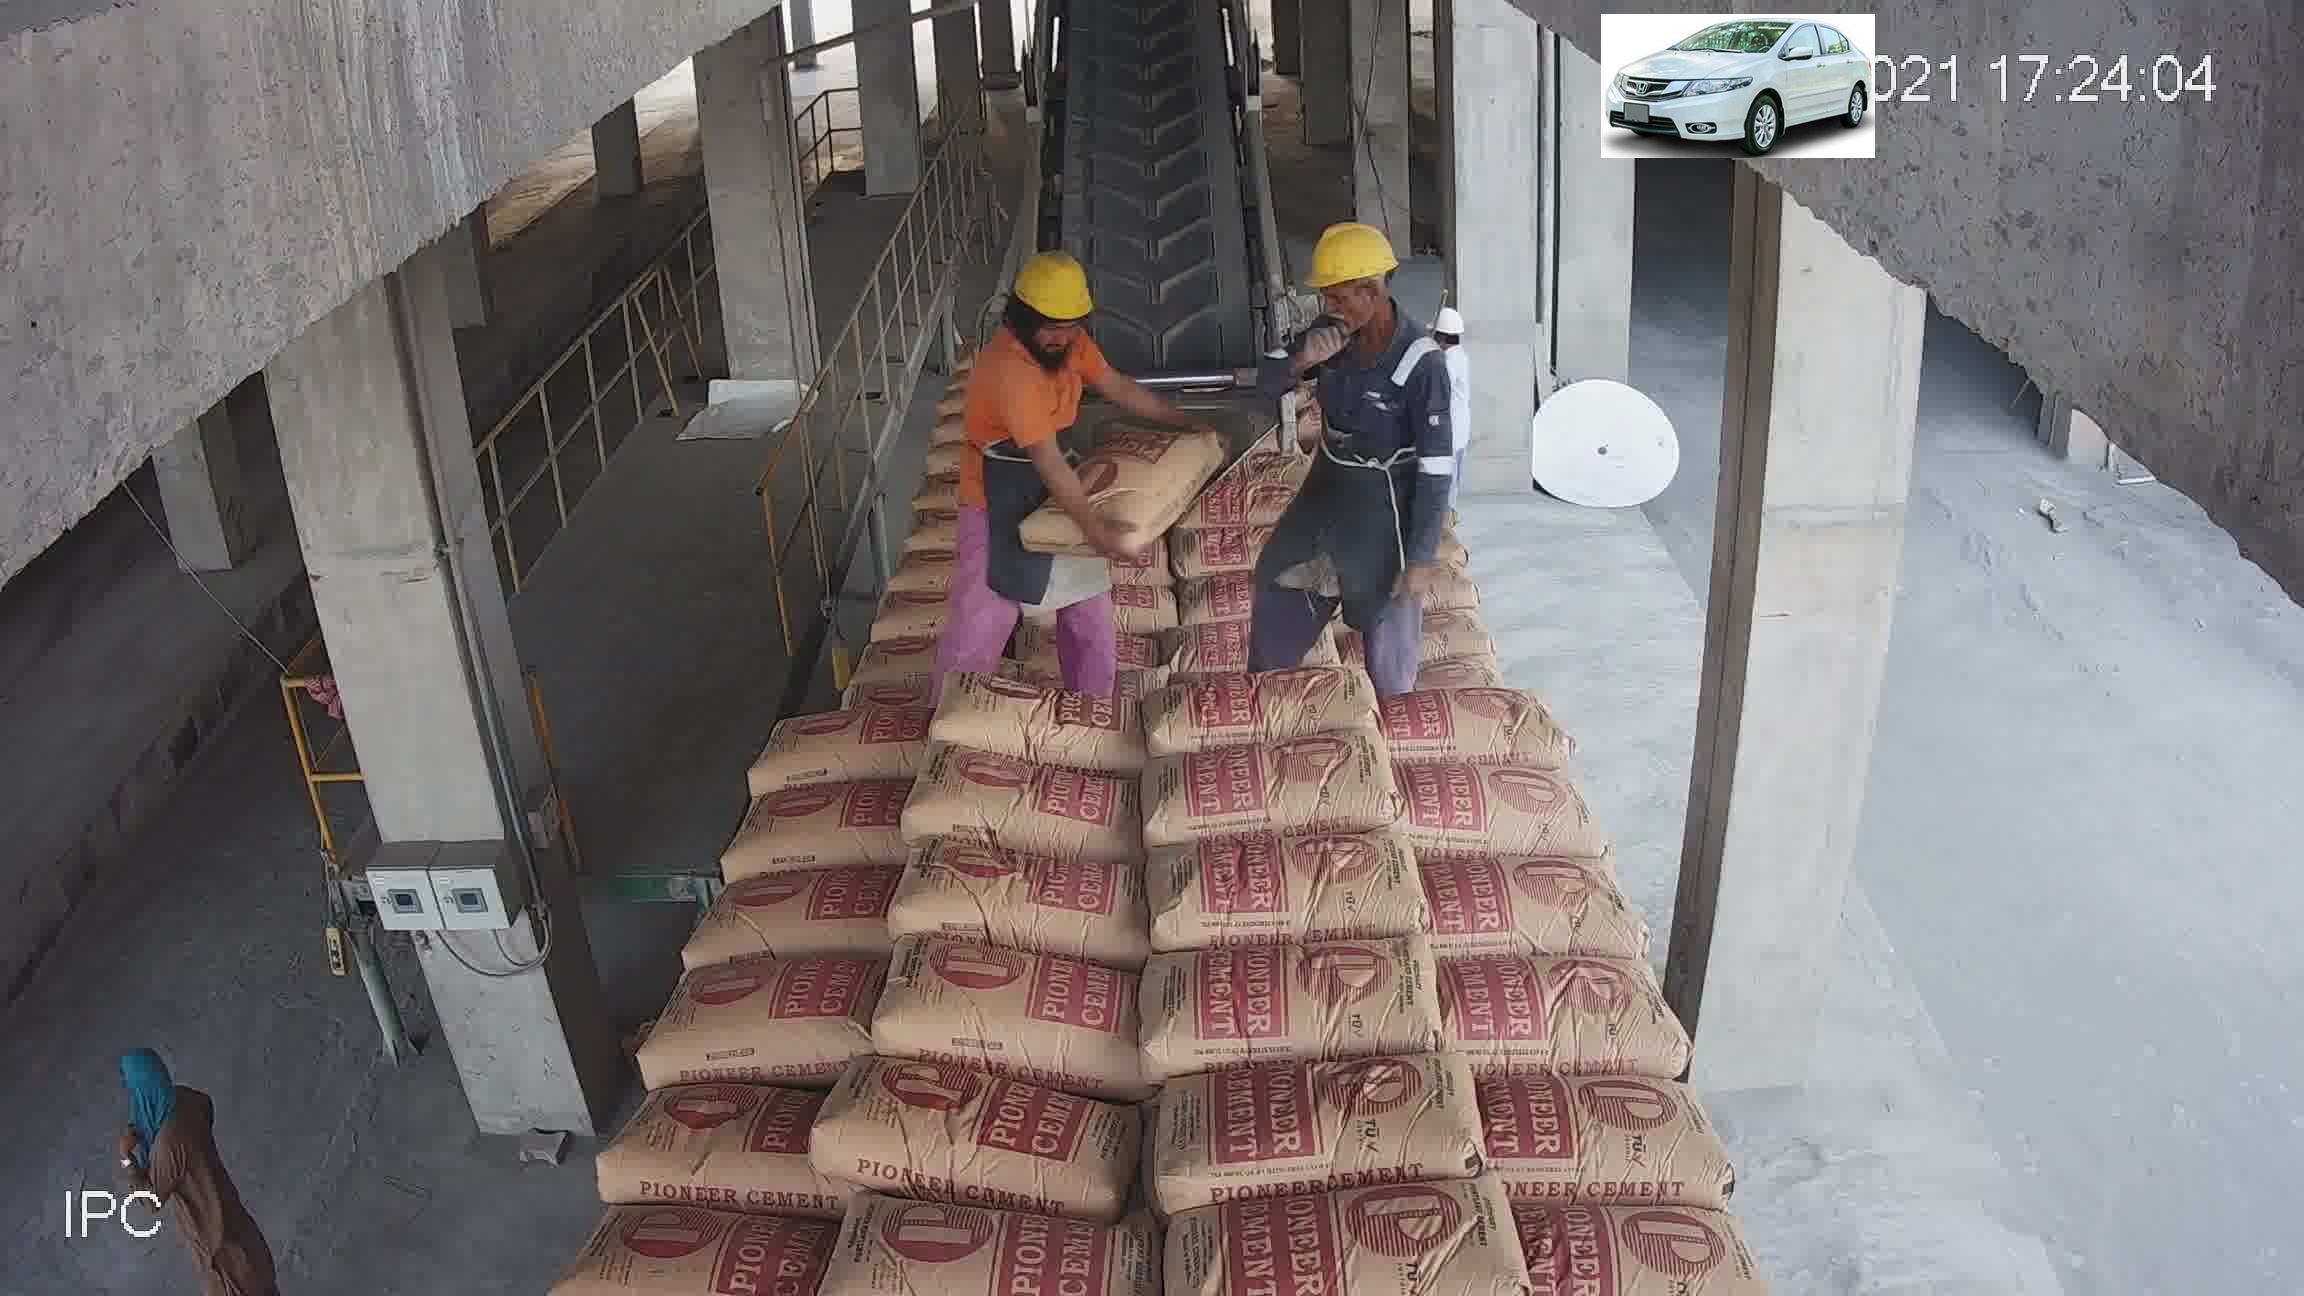bag: (1116, 153, 1174, 256)
bag_h: (1119, 1169, 1522, 1296), (820, 1070, 1192, 1206), (1165, 1048, 1475, 1203), (889, 934, 1177, 1089), (1146, 832, 1438, 959), (1155, 938, 1461, 1057), (1465, 1071, 1737, 1204), (1459, 932, 1695, 1084), (821, 1190, 1157, 1296), (1160, 567, 1426, 699), (896, 855, 1171, 975), (1143, 726, 1404, 839), (1442, 839, 1658, 954), (635, 961, 858, 1071), (1400, 748, 1625, 855), (1359, 687, 1559, 799), (619, 1095, 824, 1201), (548, 1207, 820, 1283), (726, 774, 900, 892), (696, 873, 892, 978), (1518, 1211, 1753, 1296), (1160, 521, 1377, 611), (748, 647, 956, 741), (913, 761, 1146, 840), (748, 703, 930, 801), (1136, 438, 1343, 524), (1396, 627, 1581, 715), (926, 692, 1138, 763), (1163, 673, 1372, 744), (942, 619, 1150, 684), (956, 562, 1157, 628), (807, 581, 973, 658), (1337, 578, 1546, 638), (1165, 492, 1359, 555), (1279, 354, 1412, 426), (1002, 457, 1166, 514), (1353, 525, 1514, 579), (824, 530, 972, 587), (987, 508, 1150, 554), (1309, 419, 1438, 475), (829, 486, 983, 529), (1290, 394, 1424, 441), (1366, 476, 1497, 519), (923, 392, 1010, 445), (926, 435, 1036, 475), (908, 462, 1006, 506)
belt: (1049, 16, 1253, 350)
